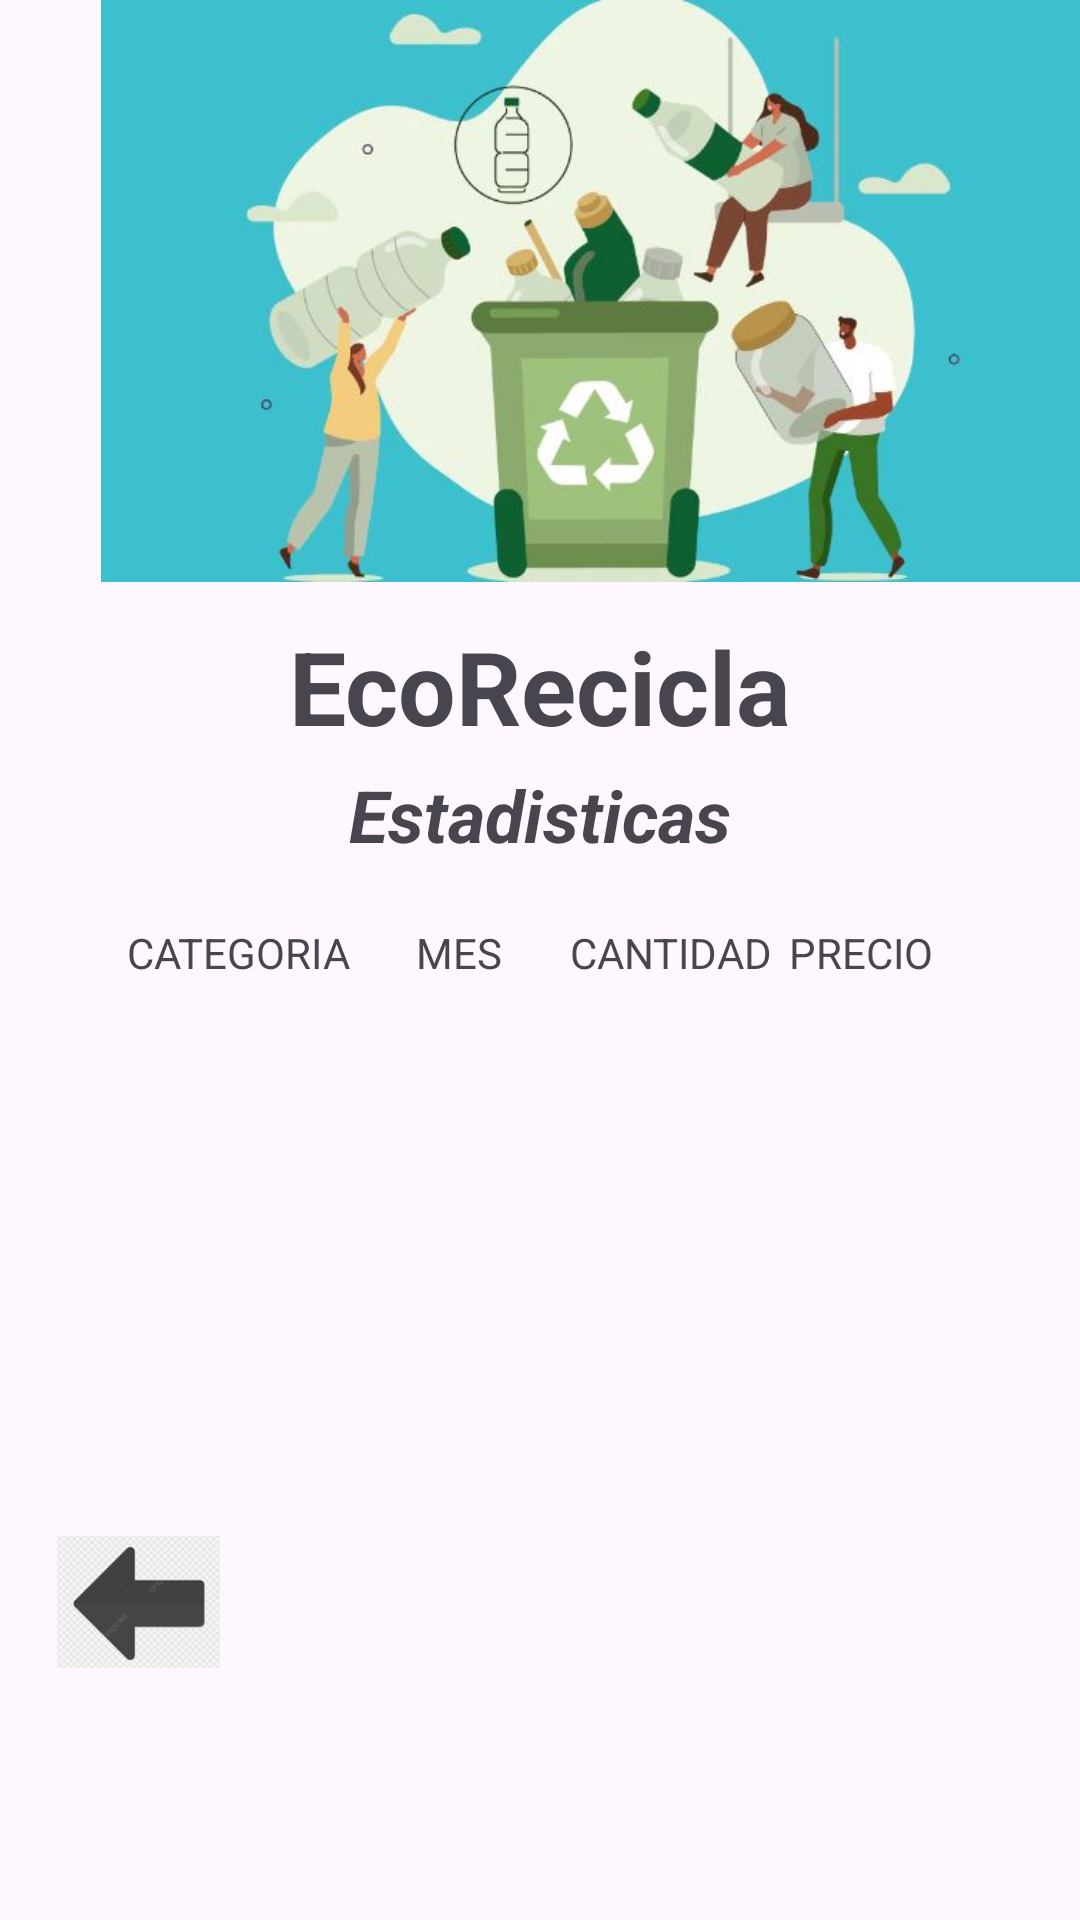

Named icons in this screenshot (1080*1920) and their centers, (x,y):
atras: (138,1602)
